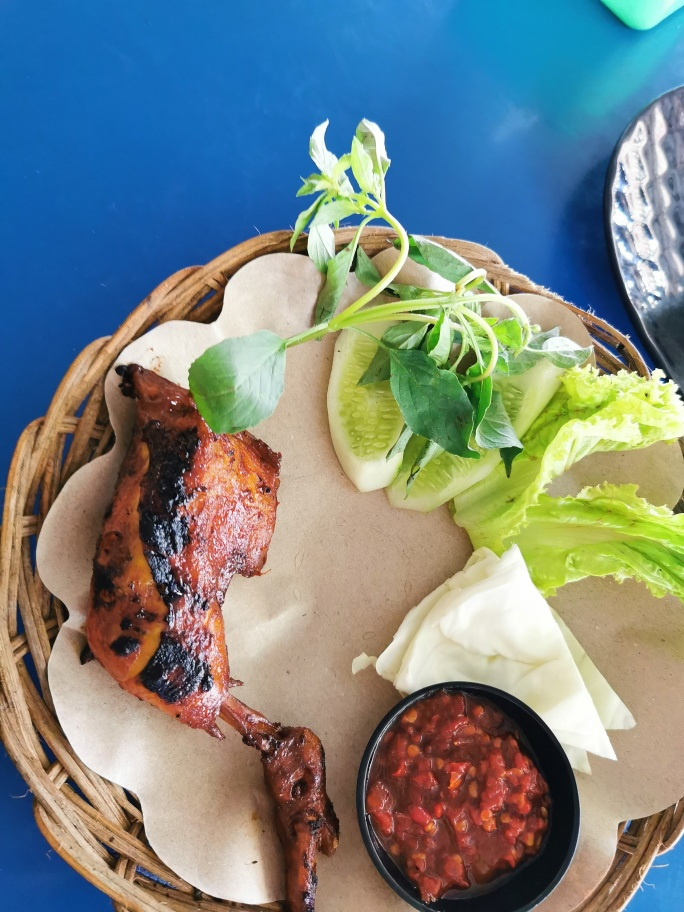ayam bakar: (103, 335, 361, 899)
